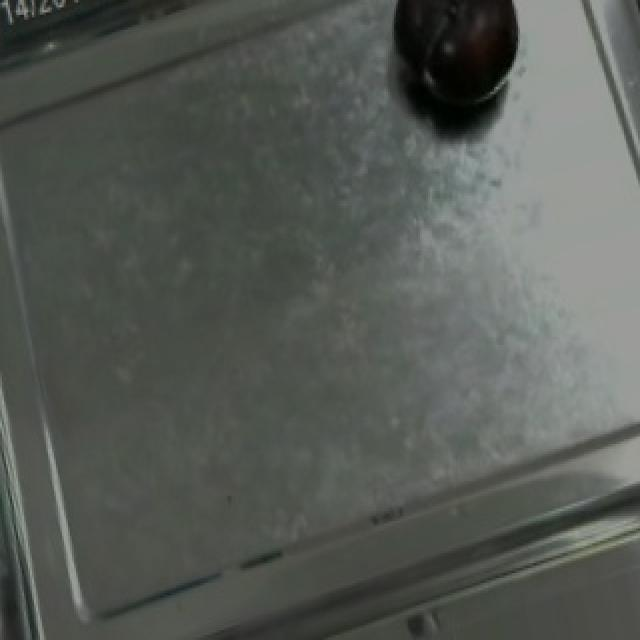Fruit: (372, 0, 538, 129)
